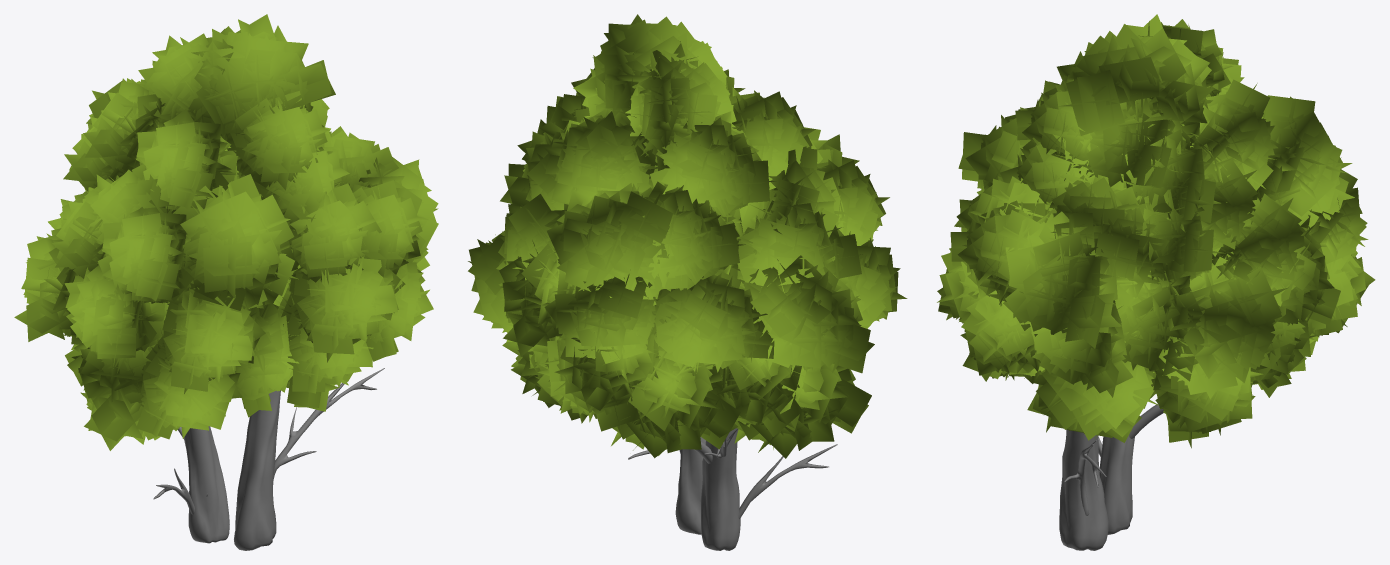
File: SM_tree_oak_01.fbx
3 renders of one model, left to right at view 1: azimuth 30°, elevation 25°; view 2: azimuth 150°, elevation 25°; view 3: azimuth 270°, elevation 25°, orthographic. The views are drawn at different scales.
Parts seen in each view (by area): view 1: Object3427687; view 2: Object3427687; view 3: Object3427687.
Boxes of the visible parts, left/top/right/bottom form: Object3427687: left=14, top=14, right=438, bottom=550; Object3427687: left=468, top=14, right=907, bottom=550; Object3427687: left=937, top=14, right=1375, bottom=550.
Size of the model in its own units: 205 by 256 by 193.
